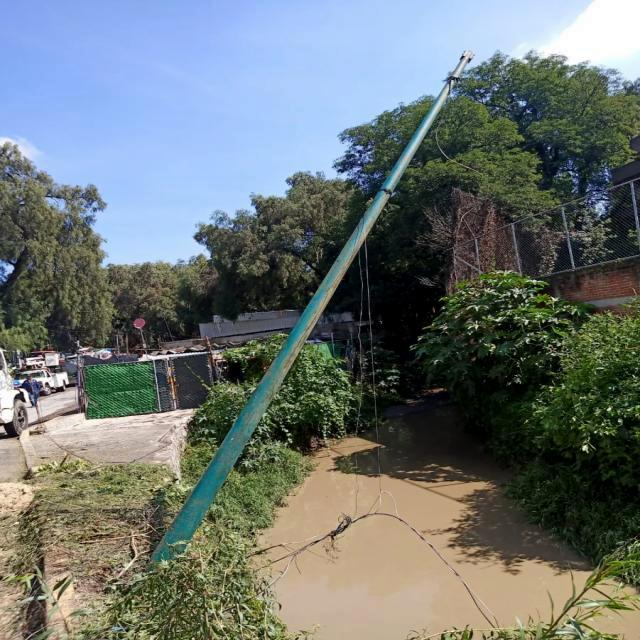Broken Pole: (143, 50, 474, 572)
